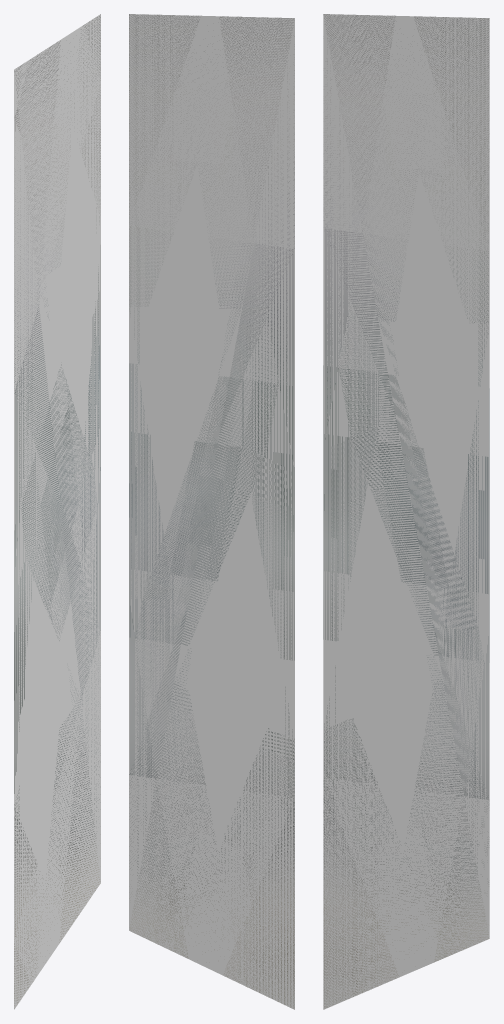
The model's file is 西庸城堡588.dae.
3 views of the same model, side by side, from view 1: azimuth 30°, elevation 25°; view 2: azimuth 150°, elevation 25°; view 3: azimuth 330°, elevation 25° (orthographic). The views are drawn at different scales.
Visible parts, largest first — view 1: SketchUp; view 2: SketchUp; view 3: SketchUp.
Boxes of the visible parts, <box> form: SketchUp: <box>14,14,100,1009</box>; SketchUp: <box>129,14,294,1009</box>; SketchUp: <box>323,14,489,1009</box>.
Bounding box in the file's own units: 11.6 × 5.81 × 85.49.
